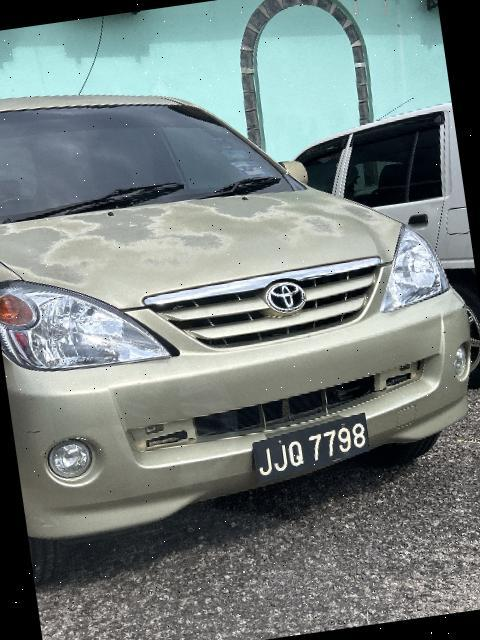JJQ7798: (245, 413, 378, 491)
License_Plate: (245, 413, 378, 491)
car: (1, 29, 480, 551)
